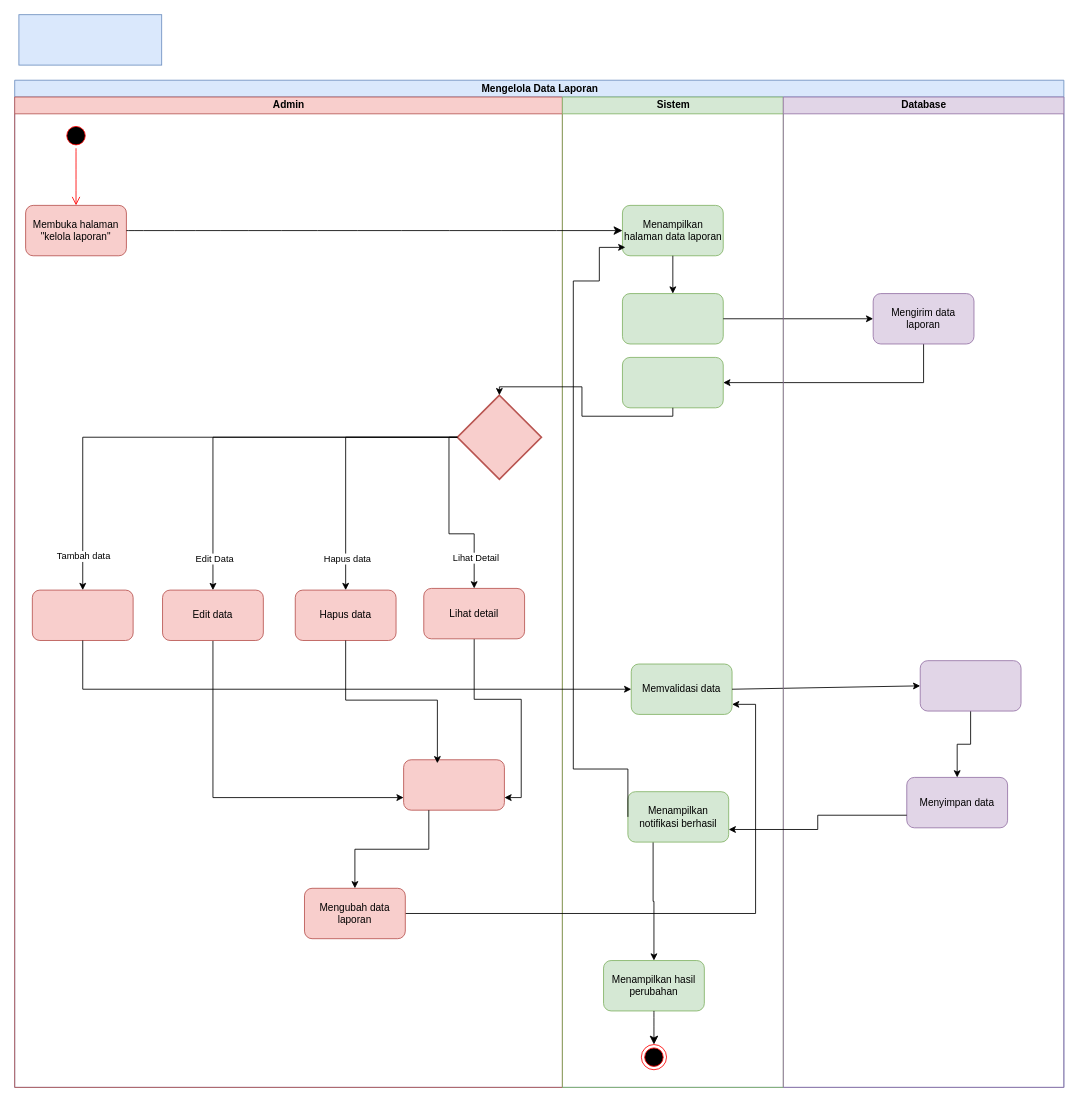
The diagram is 1079 pixels wide and 1102 high, and some of its shapes have lost their labels. Here are the shapes that lost their labels. From the top down, the centre of each, then its label:
(90,39): Dikerjakan oleh Nama: Ikbal Feri Amanda NPM: 2417051031
(672,318): Mengambil data dari Database
(672,382): Menampilkan daftar laporan
(499,437): Pilih aksi?
(82,614): Input data laporan
(970,685): Update data
(453,784): Pilih laporan
